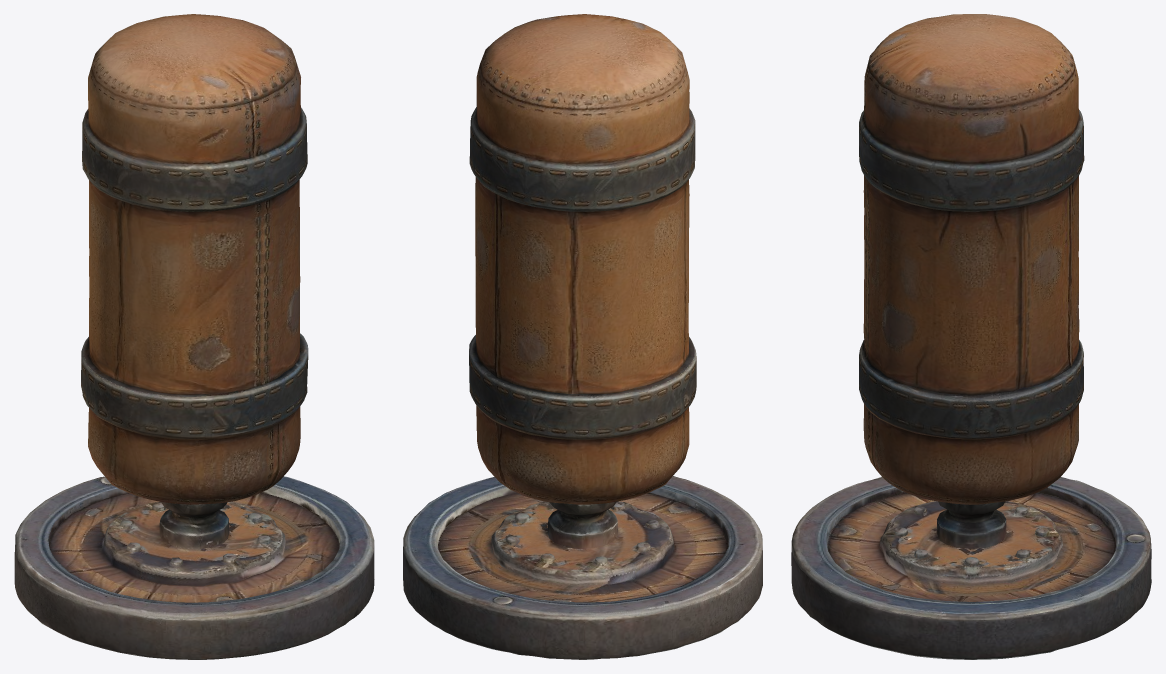
The model's file is varco_sandbag.glb.
3 views of the same model, side by side, from view 1: azimuth 30°, elevation 25°; view 2: azimuth 150°, elevation 25°; view 3: azimuth 270°, elevation 25° (orthographic).
Parts seen in each view (by area): view 1: texture_mapping; view 2: texture_mapping; view 3: texture_mapping.
Part boxes in pixels (box(x1,y1,x2,y2)): texture_mapping: box(14, 14, 374, 659); texture_mapping: box(403, 14, 762, 659); texture_mapping: box(791, 14, 1151, 659).
Bounding box in the file's own units: 0.5975 × 1 × 0.5966.
1 material, 1 textured.
